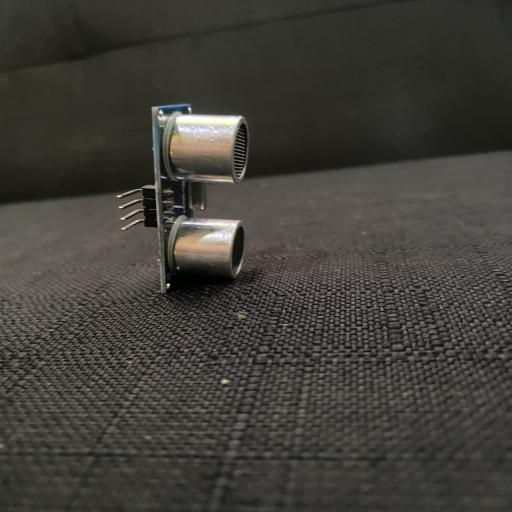Ultrasonic Sensor: (116, 104, 251, 294)
